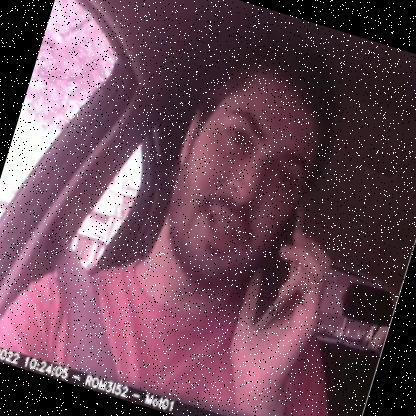phone: (234, 195, 324, 358)
